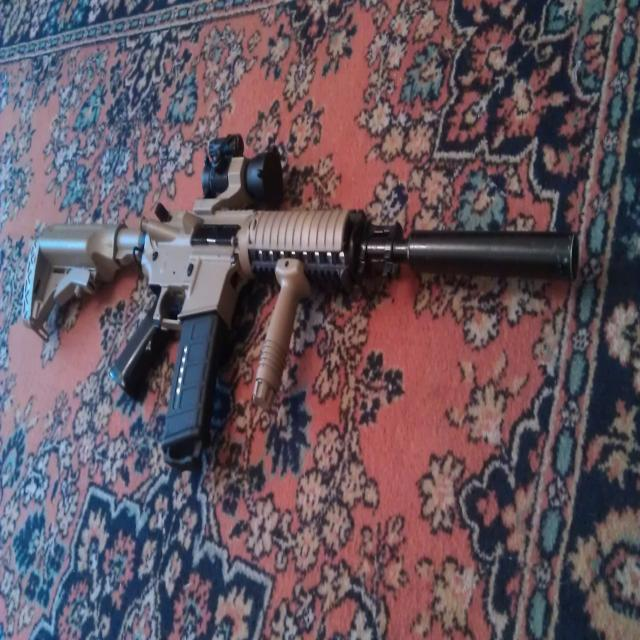firearm: (20, 132, 582, 474)
